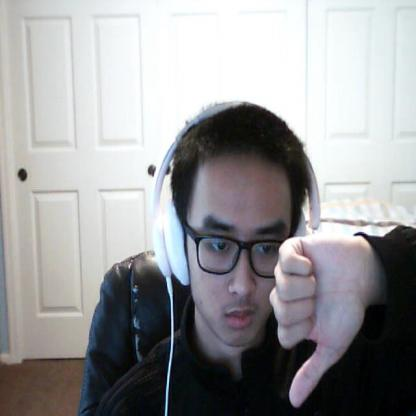Thumbs-Down: (271, 234, 368, 410)
